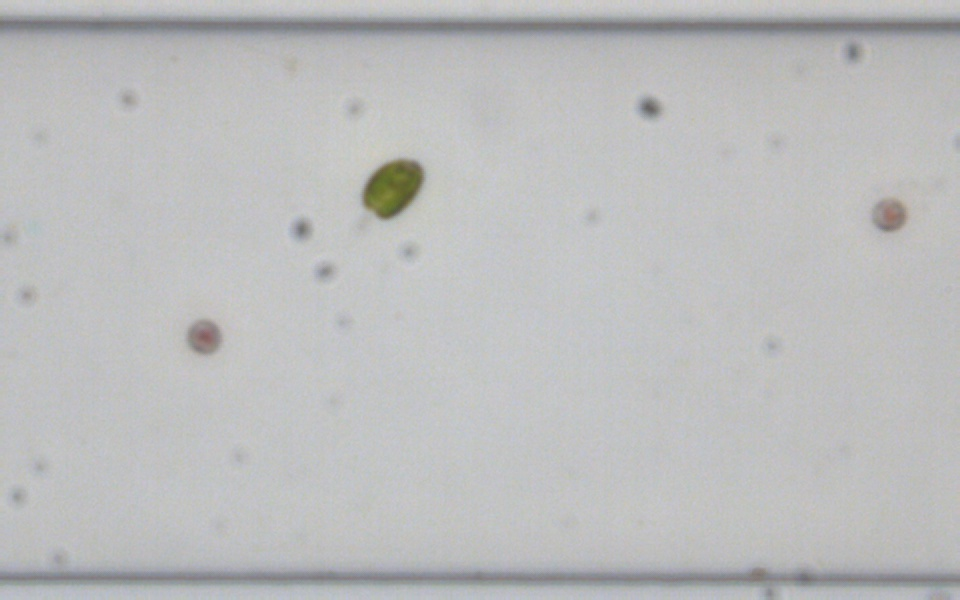Platymonas: (357, 154, 427, 219)
Porphyridium: (184, 316, 222, 354), (869, 195, 906, 231)
